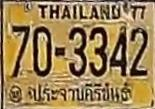0: (33, 26, 52, 76)
2: (129, 27, 148, 76)
3: (68, 26, 86, 76), (88, 26, 106, 76)
4: (109, 26, 126, 76)
7: (11, 25, 29, 77)
PKN: (30, 80, 132, 105)
